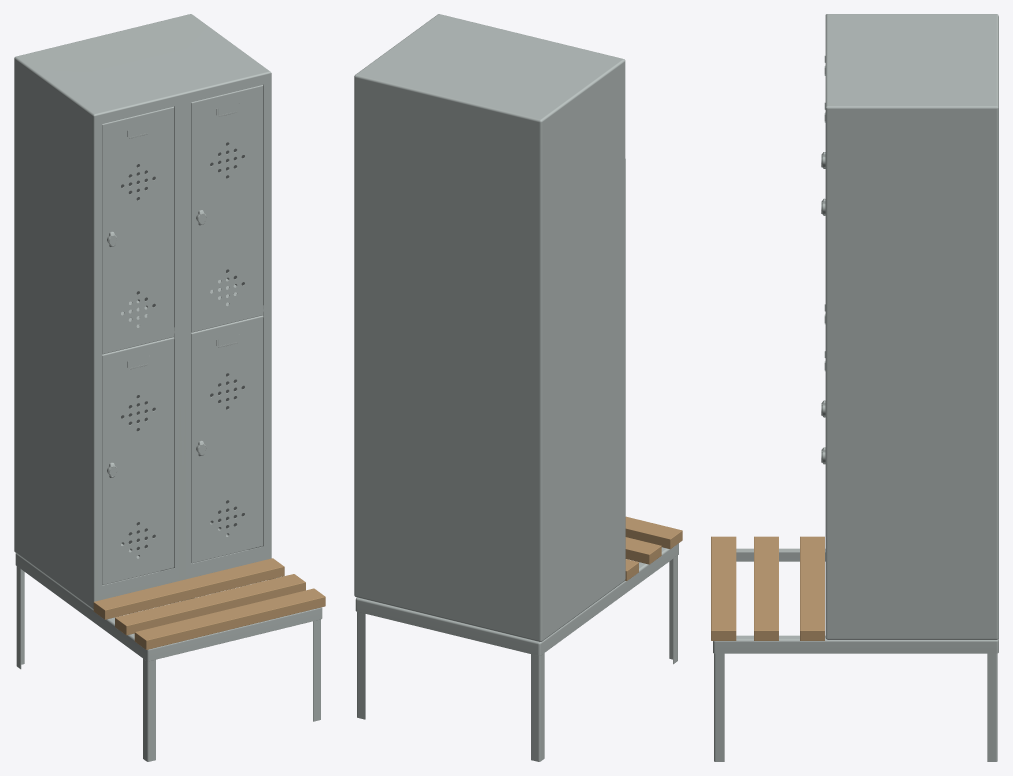
Rendered from storage_locker_double_bench_b01.glb.
3 renders of one model, left to right at view 1: azimuth 30°, elevation 25°; view 2: azimuth 150°, elevation 25°; view 3: azimuth 270°, elevation 25°, orthographic. The views are drawn at different scales.
Size of the model in its own units: 0.6442 by 2.09 by 0.8303.
